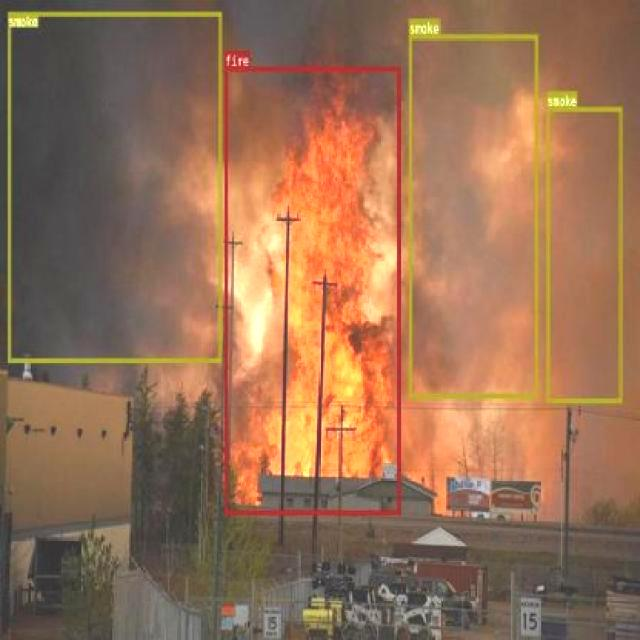fire: (223, 67, 400, 515)
smoke: (8, 11, 222, 362), (408, 34, 538, 397), (546, 106, 622, 402)
